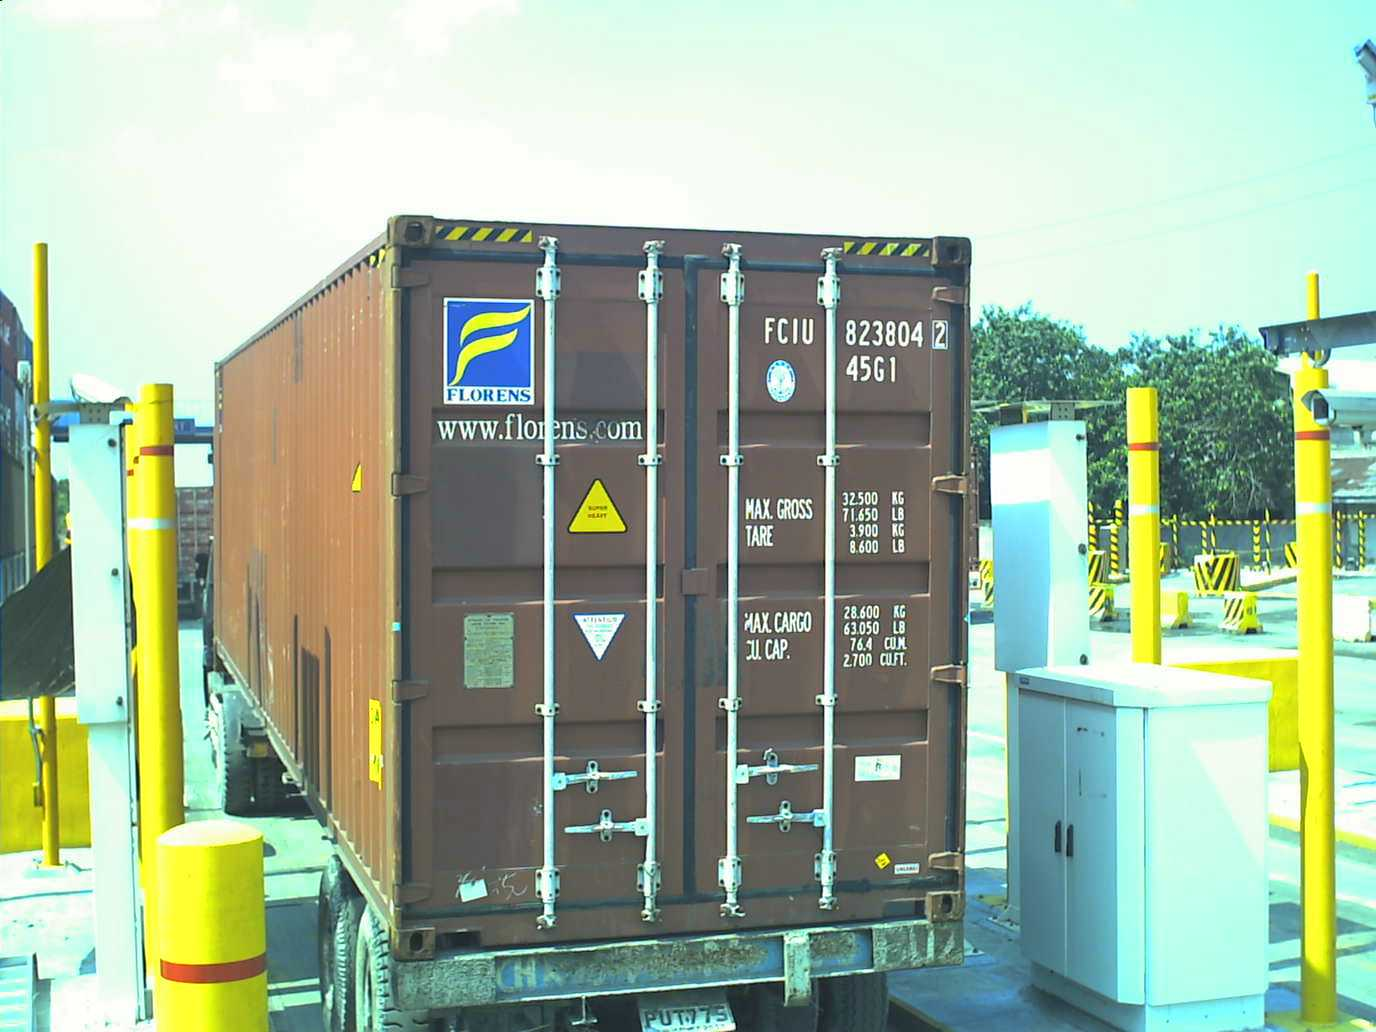container_door: (376, 203, 975, 929)
